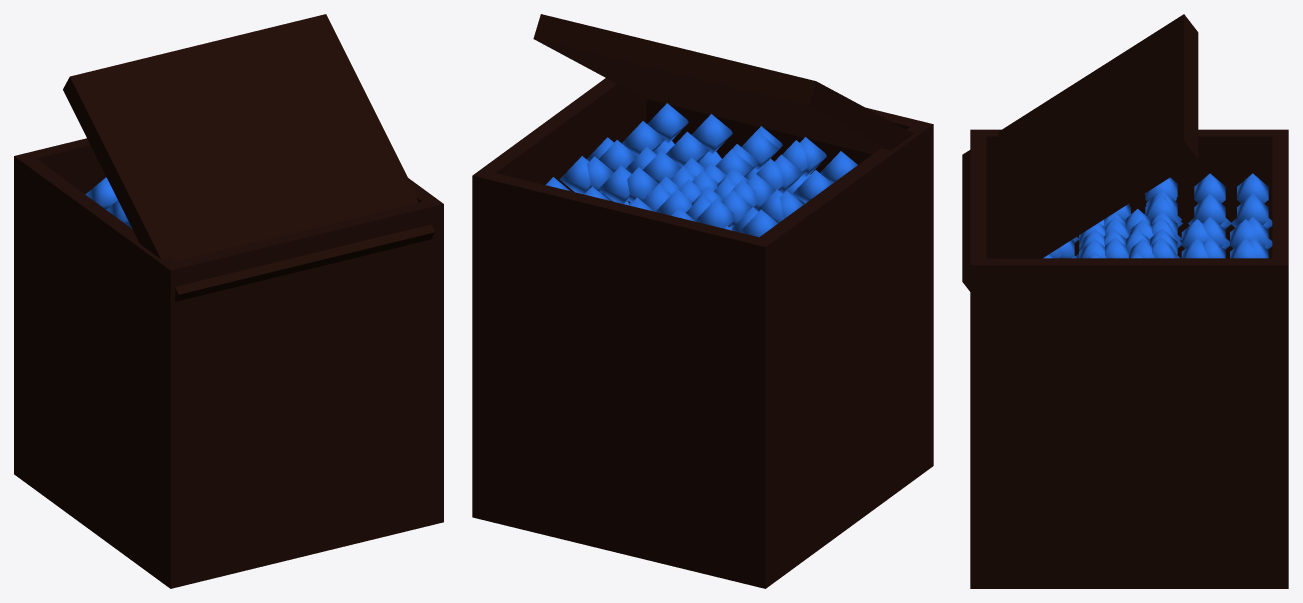
The model's file is AmmoBox.FBX.
3 views of the same model, side by side, from view 1: azimuth 30°, elevation 25°; view 2: azimuth 150°, elevation 25°; view 3: azimuth 270°, elevation 25° (orthographic). The views are drawn at different scales.
Parts seen in each view (by area): view 1: Box012, Box013, Sphere051; view 2: Box012, Box013, Sphere018, Sphere019, Sphere025, Sphere022, Sphere117, Sphere093, Sphere099, Sphere091, Sphere032, Sphere021 (+3 smaller); view 3: Box012, Box013, Sphere051, Sphere056, Sphere058, Sphere038, Sphere116, Sphere055, Sphere118.
Boxes of the visible parts, <box> form: Box012: <box>14,138,443,588</box>; Box013: <box>63,14,434,301</box>; Sphere051: <box>85,177,117,209</box>; Box012: <box>472,78,933,588</box>; Box013: <box>533,14,913,154</box>; Sphere018: <box>691,114,732,153</box>; Sphere019: <box>647,103,688,143</box>; Sphere025: <box>666,131,709,166</box>; Sphere022: <box>621,121,665,155</box>; Sphere117: <box>599,165,631,204</box>; Sphere093: <box>741,130,779,170</box>; Sphere099: <box>559,156,590,194</box>; Sphere091: <box>695,198,734,228</box>; Sphere032: <box>627,167,658,202</box>; Sphere021: <box>643,150,681,183</box>; Box012: <box>970,129,1288,588</box>; Box013: <box>962,14,1198,291</box>; Sphere051: <box>1237,194,1268,224</box>; Sphere056: <box>1194,194,1225,224</box>; Sphere058: <box>1194,173,1225,203</box>; Sphere038: <box>1237,173,1268,203</box>; Sphere116: <box>1181,219,1209,248</box>; Sphere055: <box>1145,194,1176,221</box>; Sphere118: <box>1230,219,1261,248</box>.
Bounding box in the file's own units: 19.78 × 30.06 × 20.12.
